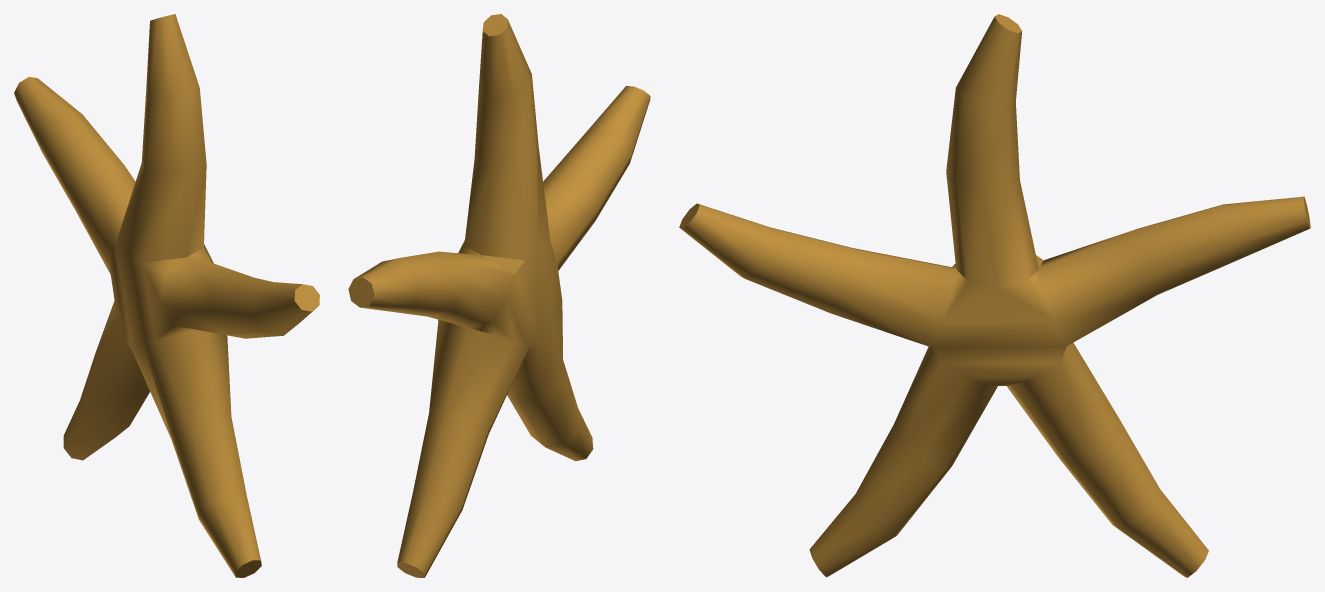
Rendered from Starfish.fbx.
The picture shows the model from 3 angles, left to right: view 1: azimuth 30°, elevation 25°; view 2: azimuth 150°, elevation 25°; view 3: azimuth 270°, elevation 25°; orthographic projection. The views are drawn at different scales.
Parts seen in each view (by area): view 1: Cylinder001; view 2: Cylinder001; view 3: Cylinder001.
Part boxes in pixels (x1,y1,x2,y2): Cylinder001: [14, 14, 319, 577]; Cylinder001: [348, 14, 650, 577]; Cylinder001: [679, 14, 1310, 577].
Size of the model in its own units: 4.28 by 28.59 by 29.22.
